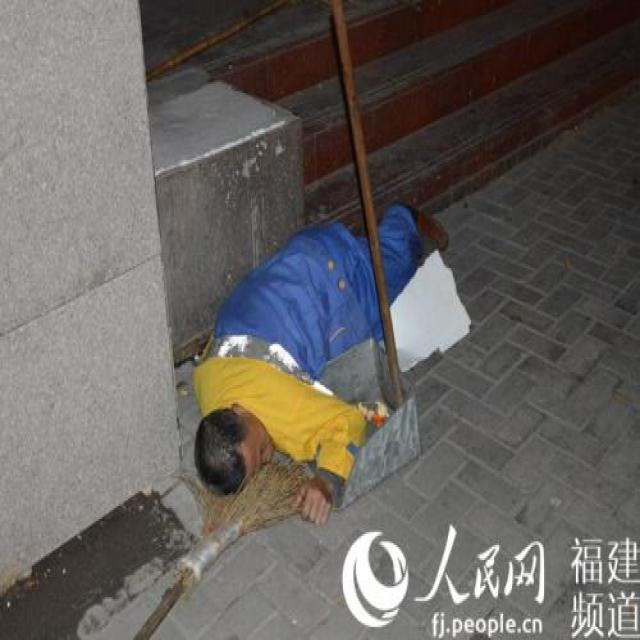fall: (192, 201, 435, 493)
